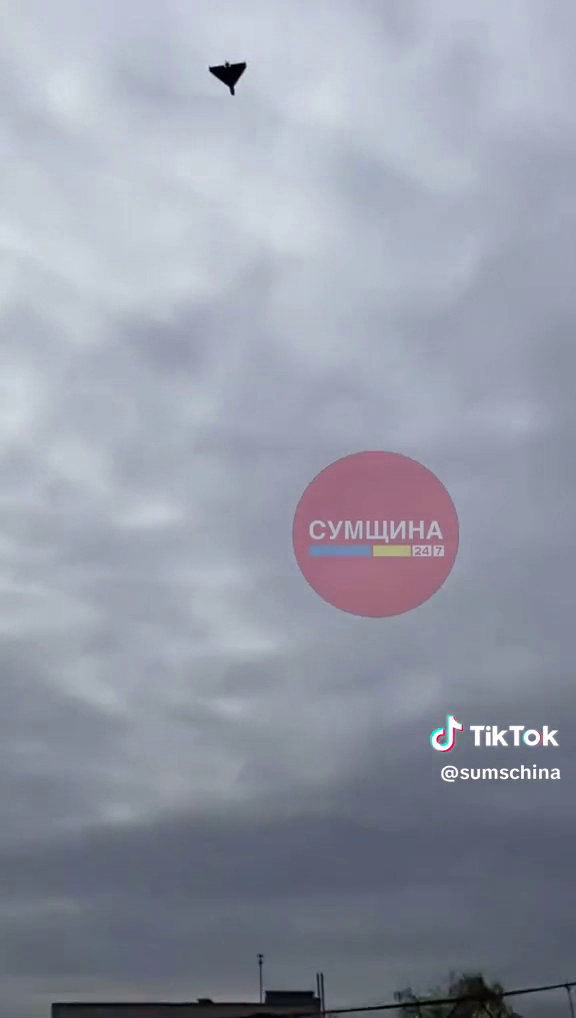shahed: (202, 54, 253, 102)
